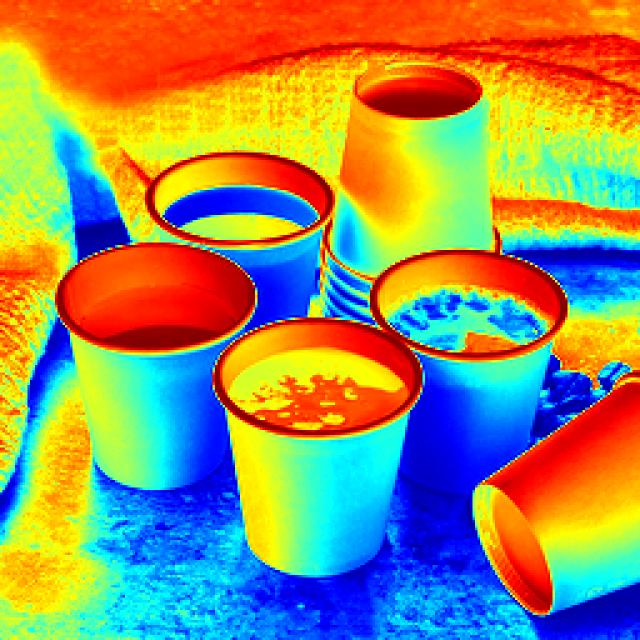Paper Cups: (42, 236, 272, 487), (444, 332, 640, 603), (208, 300, 401, 554), (310, 64, 518, 280), (350, 239, 565, 444), (124, 124, 331, 277)
